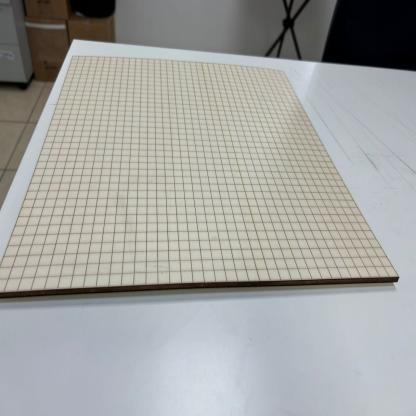grid: (1, 46, 404, 302)
